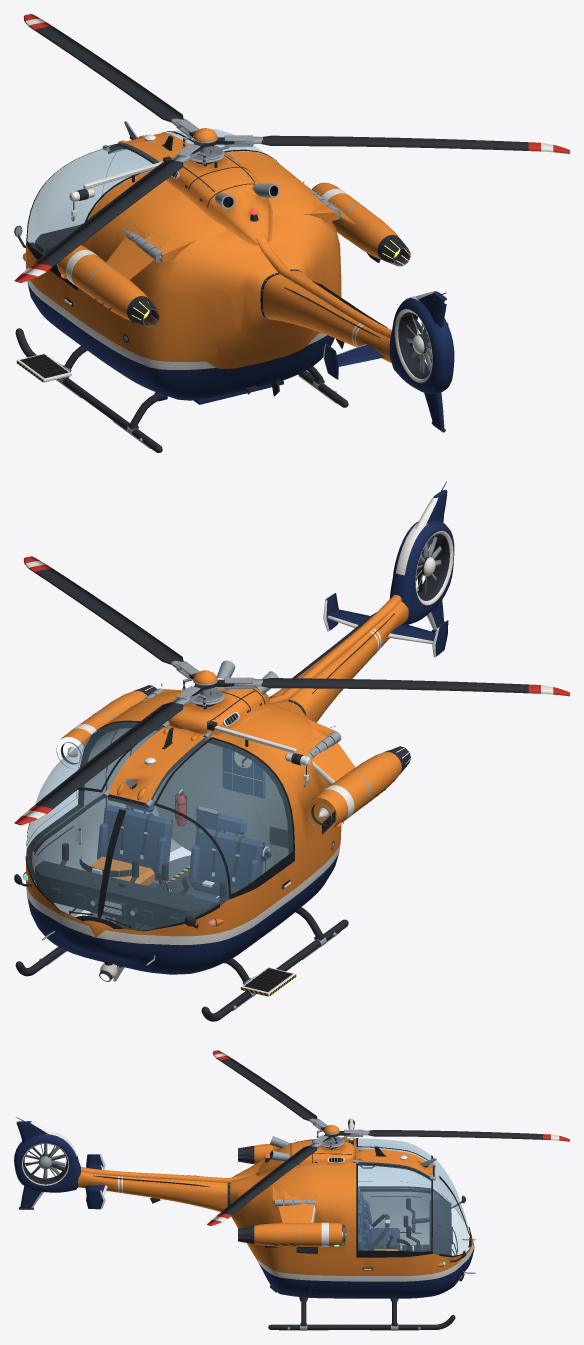
File: helicopter_boarding.glb
3 renders of one model, top to bottom at view 1: azimuth 30°, elevation 25°; view 2: azimuth 150°, elevation 25°; view 3: azimuth 270°, elevation 25°, orthographic. The views are drawn at different scales.
Visible parts, largest first — view 1: Body, MainRotorBlades, Door_L, Windows, JetPod_L, JetPod_R, FrameAndSkids, MainRotor, Step_L, JetNozzle_R, JetNozzle_L, Interior; view 2: Body, Windows, Door_L, Interior, MainRotorBlades, Door_R, JetPod_L, Seat_L, Seat_R, FrameAndSkids, MainRotor, JetPod_R (+2 smaller); view 3: Body, Door_R, Door_L, MainRotorBlades, JetPod_R, Windows, Interior, FrameAndSkids, MainRotor, Seat_L, TailRotor.
Part boxes in pixels (x1,y1,x2,y2): Body: (14,121,454,432); MainRotorBlades: (14,14,569,282); Door_L: (26,143,158,355); Windows: (25,135,193,252); JetPod_L: (56,229,162,323); JetPod_R: (307,182,403,262); FrameAndSkids: (15,328,348,452); MainRotor: (171,118,262,164); Step_L: (16,353,71,382); JetNozzle_R: (381,237,410,266); JetNozzle_L: (130,298,160,327); Interior: (35,151,131,264); Body: (14,481,454,981); Windows: (23,790,228,930); Door_L: (151,737,294,967); Interior: (35,729,288,930); MainRotorBlades: (14,556,569,825); Door_R: (26,720,162,910); JetPod_L: (307,731,403,829); Seat_L: (188,813,271,902); Seat_R: (89,798,172,918); FrameAndSkids: (15,907,348,1021); MainRotor: (171,661,262,706); JetPod_R: (56,688,163,768); Body: (14,1117,476,1298); Door_R: (356,1162,432,1297); Door_L: (356,1138,432,1240); MainRotorBlades: (207,1050,569,1225); JetPod_R: (250,1199,346,1247); Windows: (432,1157,469,1266); Interior: (360,1165,457,1255); FrameAndSkids: (268,1297,455,1330); MainRotor: (309,1118,369,1148); Seat_L: (358,1186,399,1245); TailRotor: (25,1144,65,1178).
Bounding box in the file's own units: 9.24 × 4.5 × 12.36.
